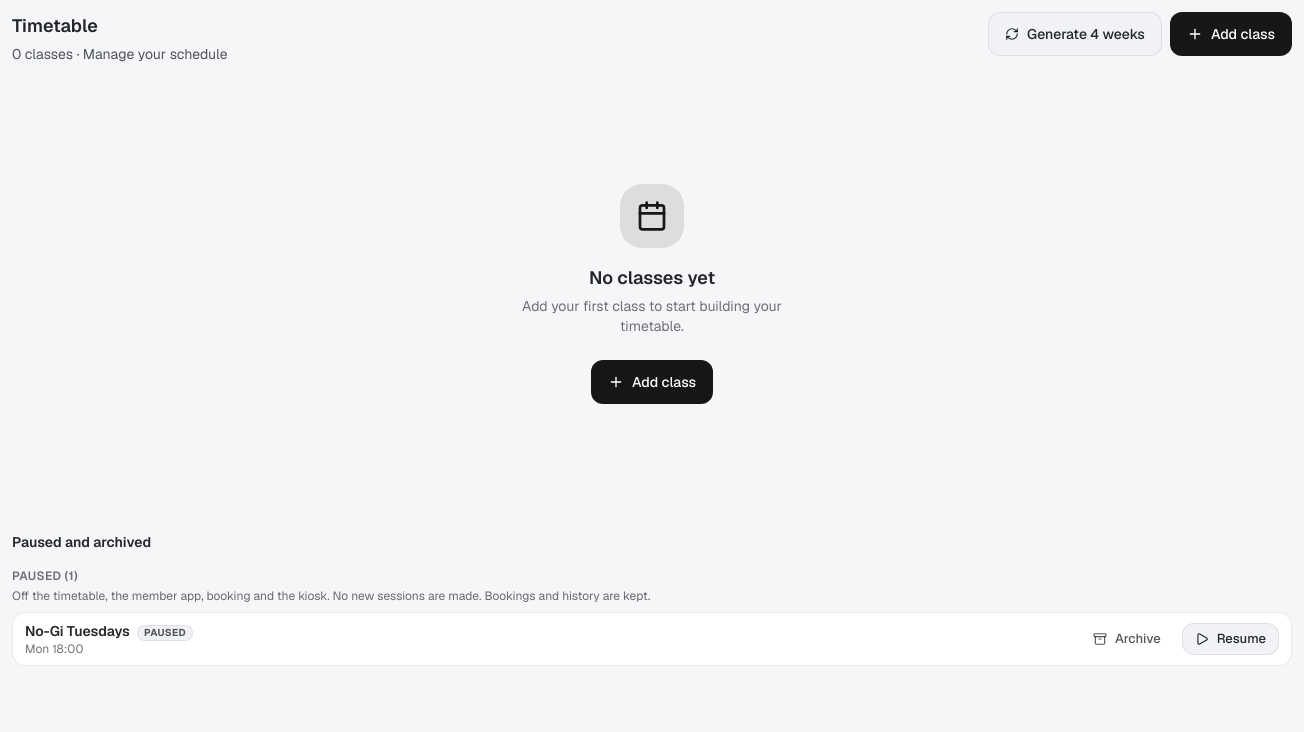
Scenario: Pause, Resume and Restore › Resume sends isActive true and puts the class back on the timetable, saying how many sessions were added
Click the button with aria-label "Resume No-Gi Tuesdays" at (1230, 639), box 1182,623 -> 1279,655
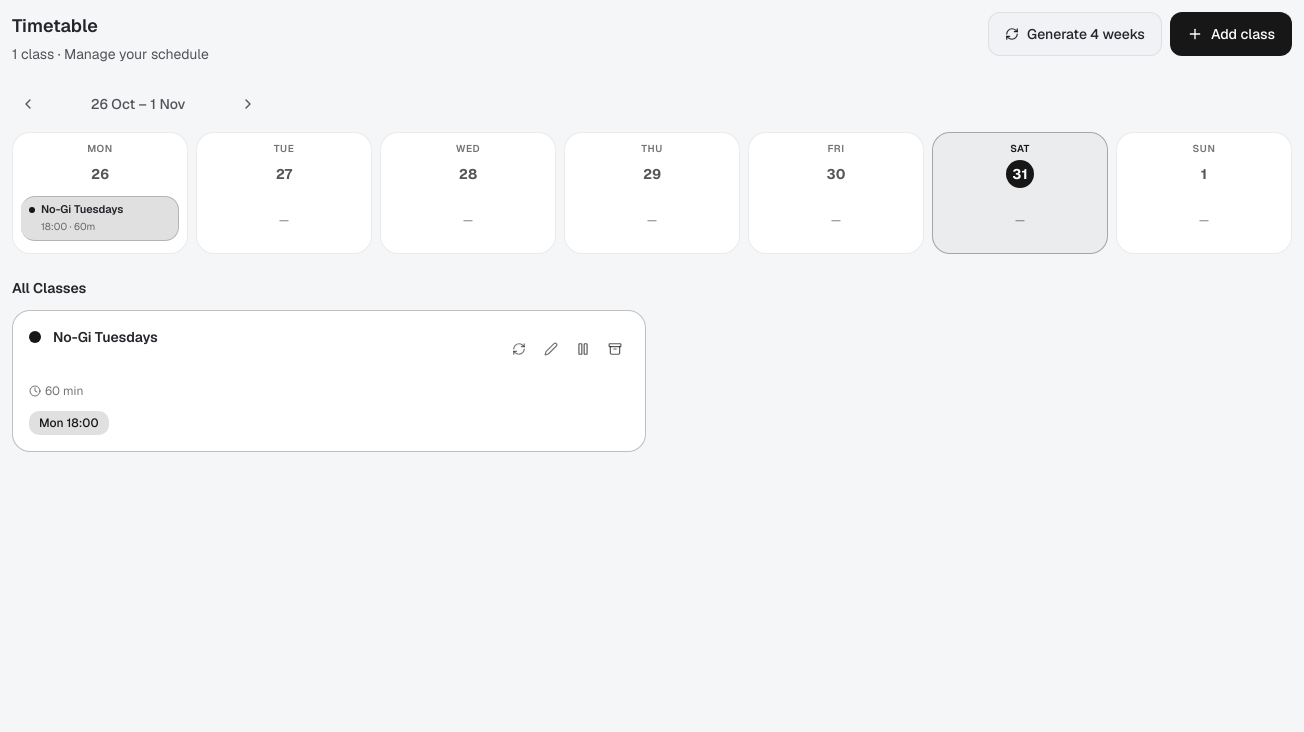
Expected: the button with aria-label "Edit No-Gi Tuesdays" is shown, 21,196 -> 179,241
Expected: the element with test id "inactive-classes" is gone
